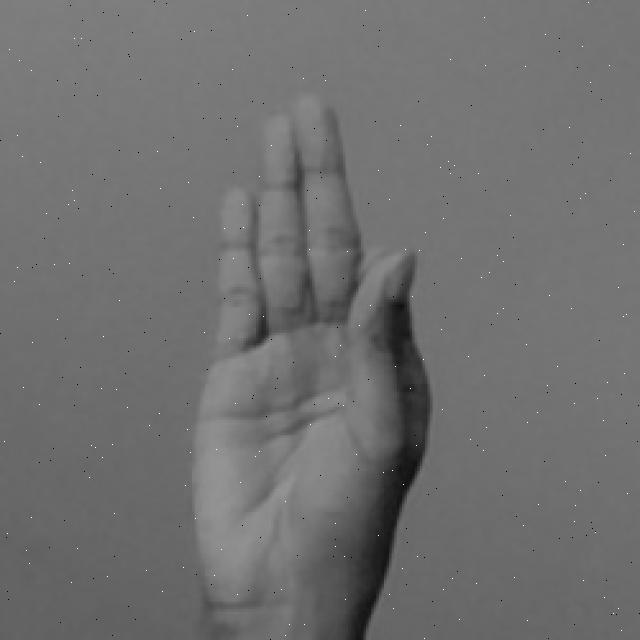F: (186, 94, 439, 640)
